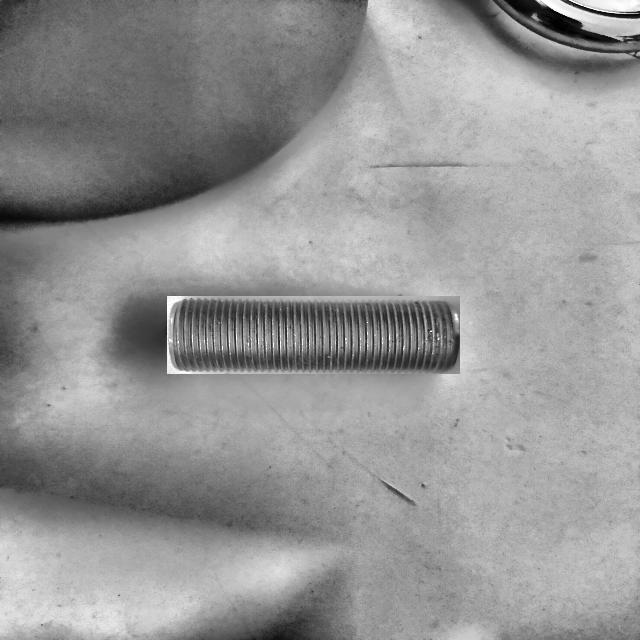Normal: (167, 296, 460, 374)
